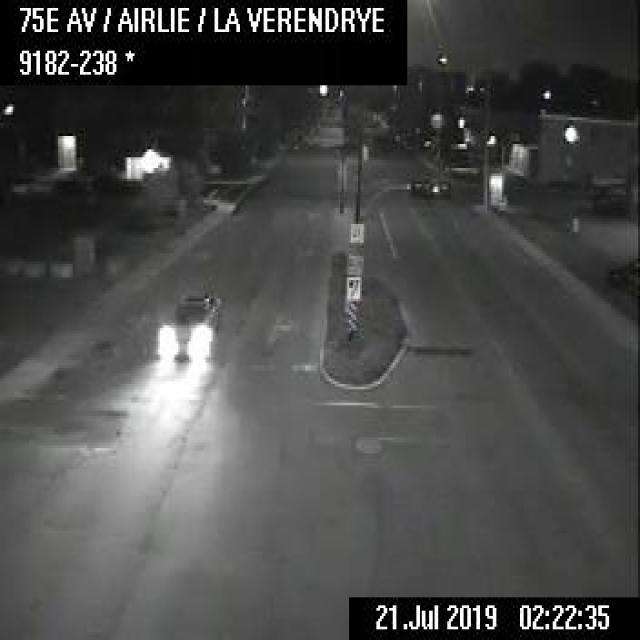vehicle: (153, 286, 221, 366)
